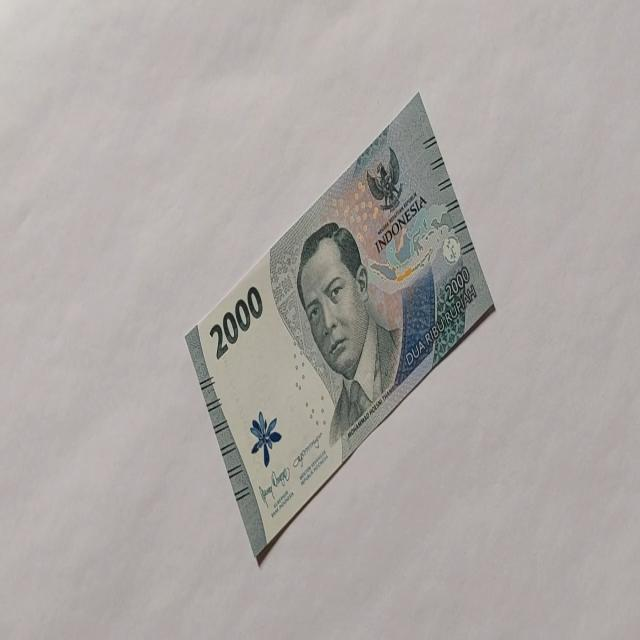dua ribu rupiah: (184, 90, 496, 564), (296, 220, 402, 448), (208, 283, 263, 361)
